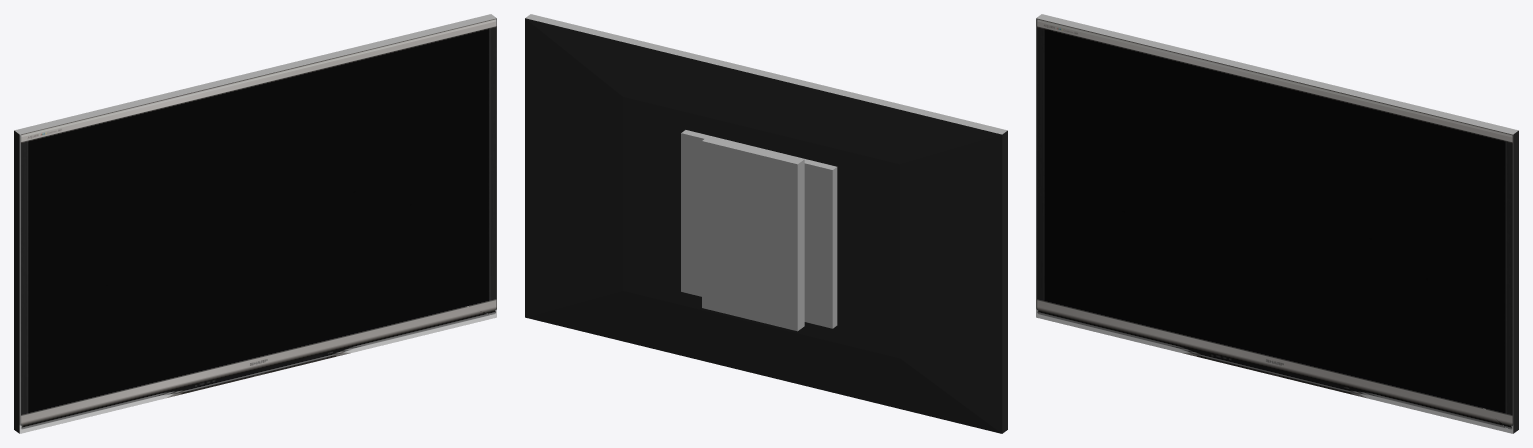
3 renders of one model, left to right at view 1: azimuth 30°, elevation 25°; view 2: azimuth 150°, elevation 25°; view 3: azimuth 330°, elevation 25°, orthographic.
Parts seen in each view (by area): view 1: obj1 (×3); view 2: obj1 (×2), obj3, obj2; view 3: obj1 (×3).
Part boxes in pixels (x1,y1,x2,y2): obj1 (×3): (14, 14, 496, 433); obj1 (×2): (525, 14, 1007, 433); obj3: (702, 136, 804, 331); obj2: (681, 130, 837, 328); obj1 (×3): (1036, 14, 1518, 433).
Size of the model in its own units: 47.05 by 3.33 by 28.21.
Materials: 3 (1 with a texture image).
